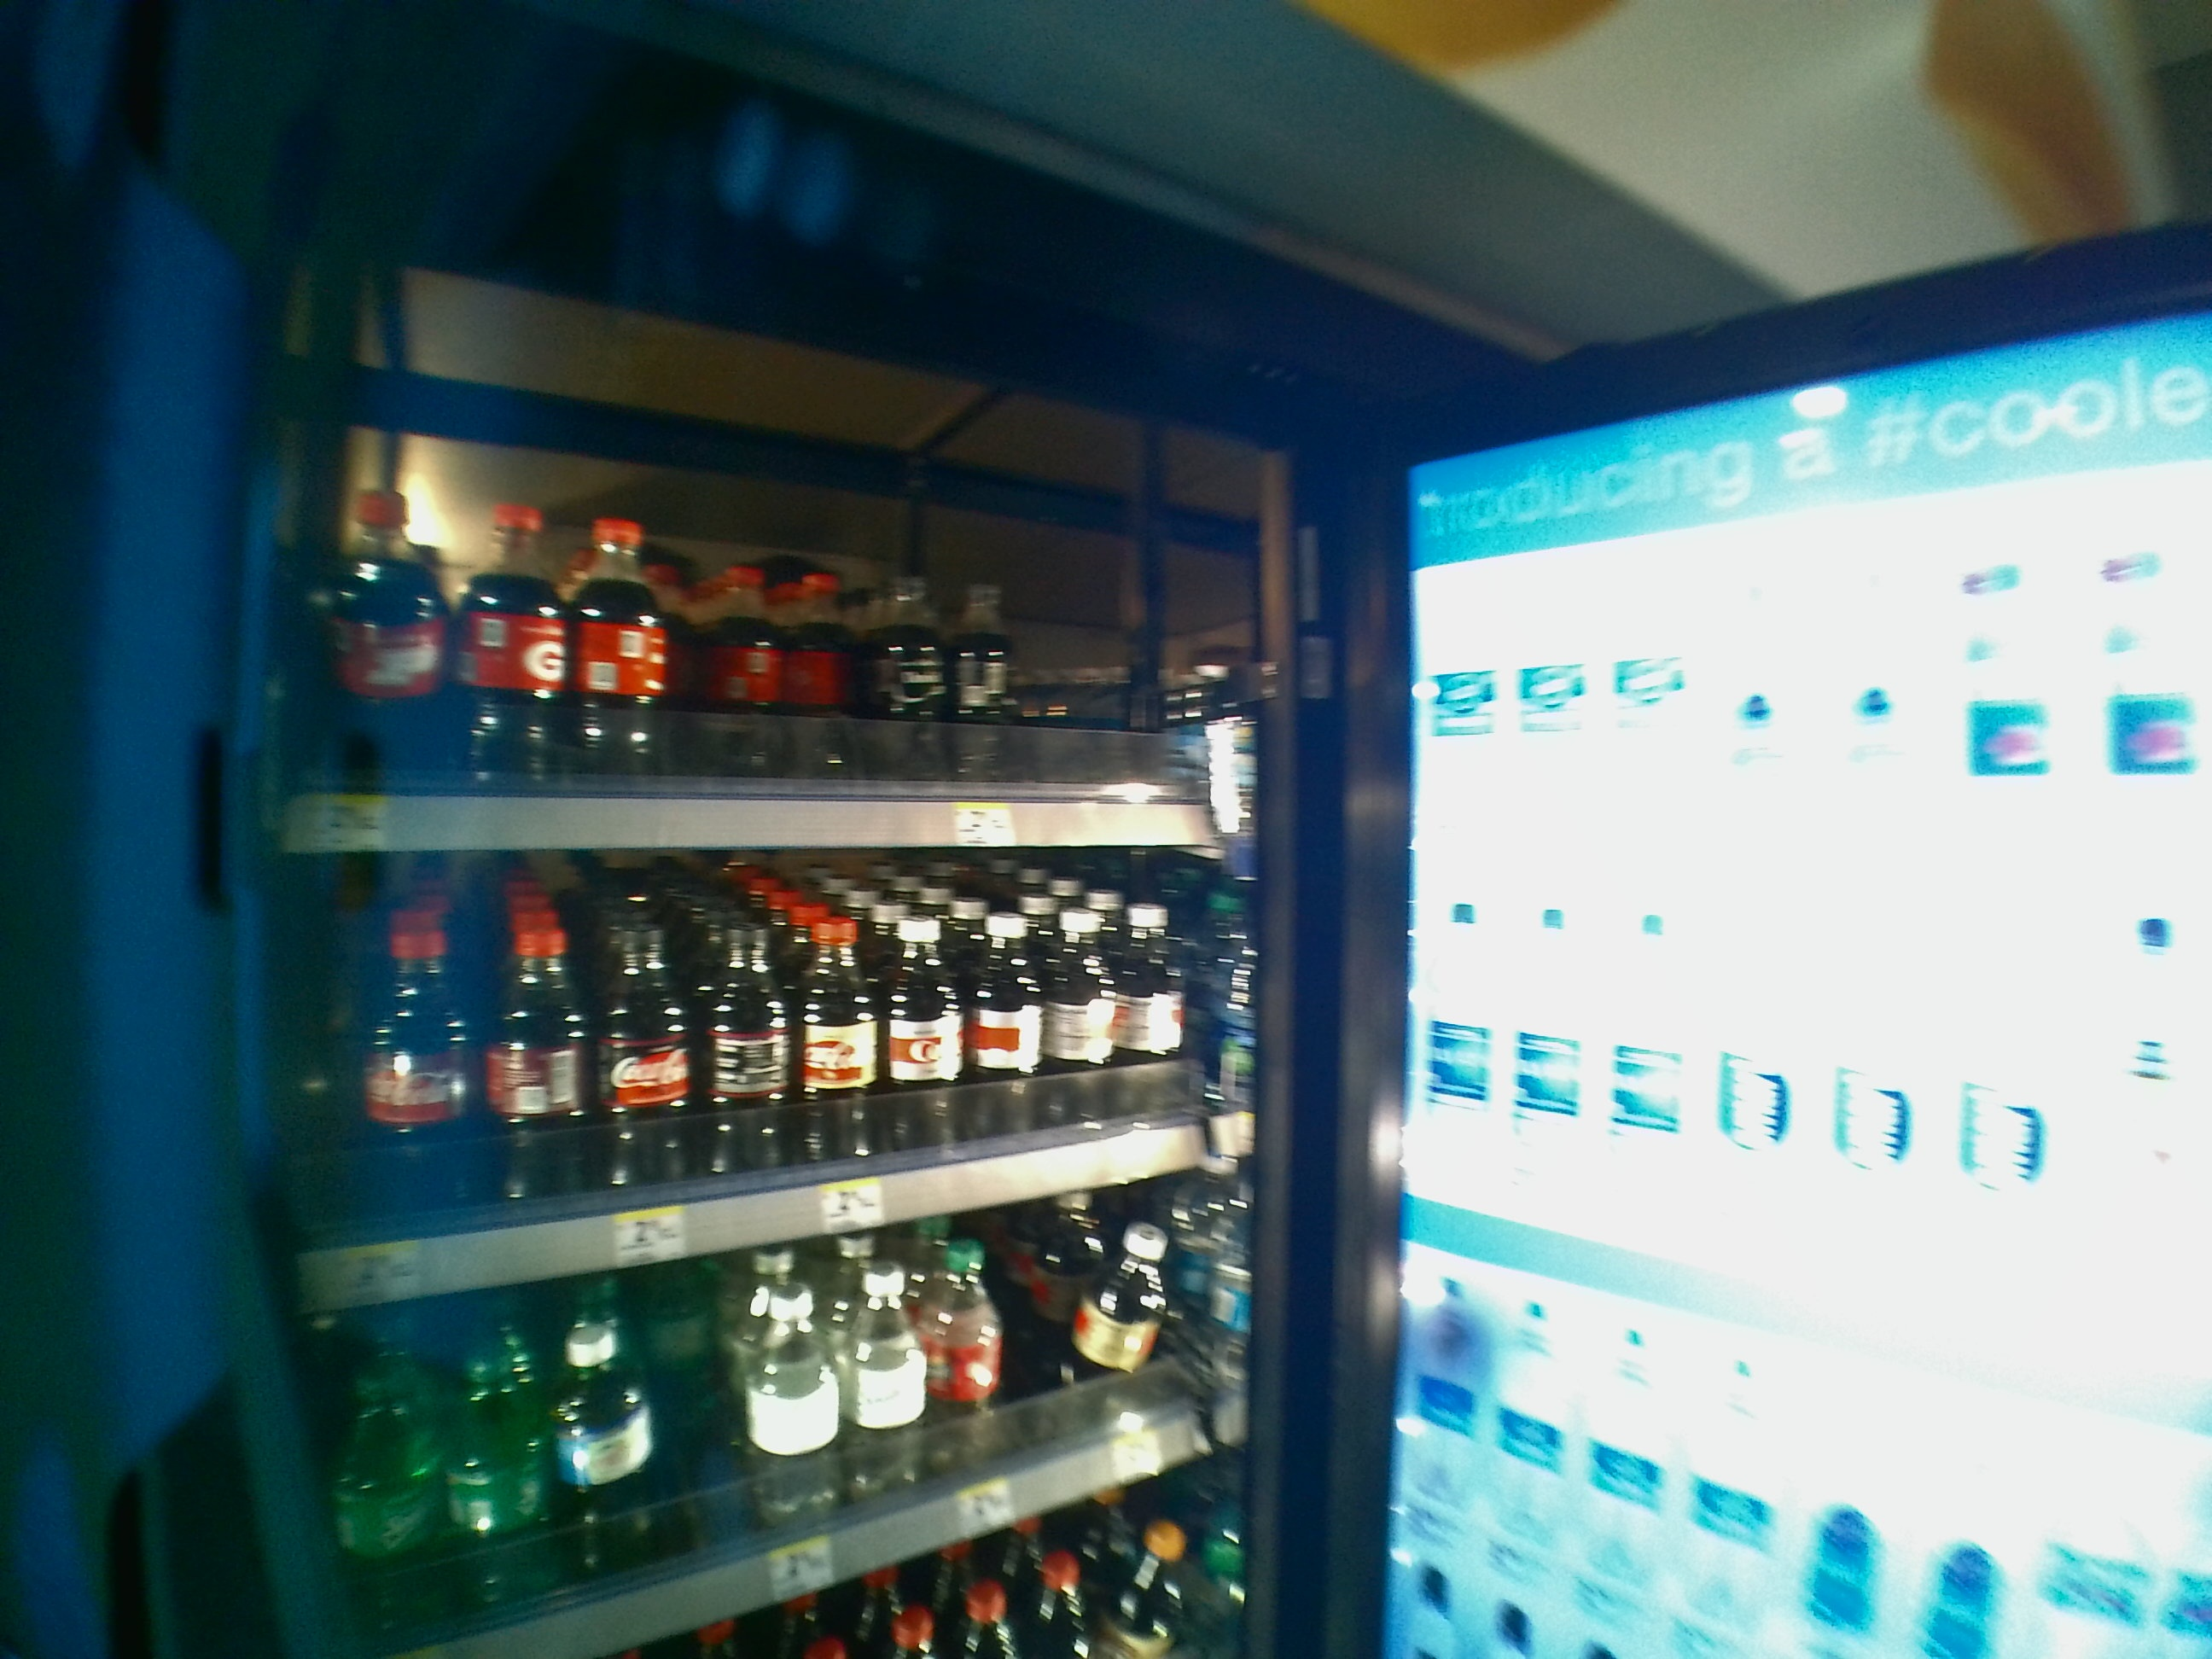shelf: (317, 432, 1237, 849), (289, 863, 1240, 1234)
